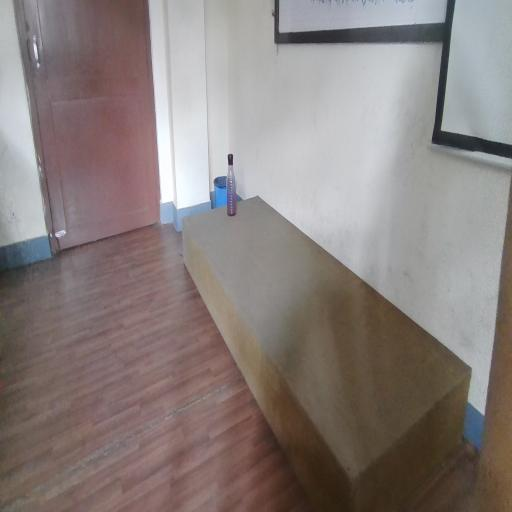Bottle: (220, 145, 259, 233)
